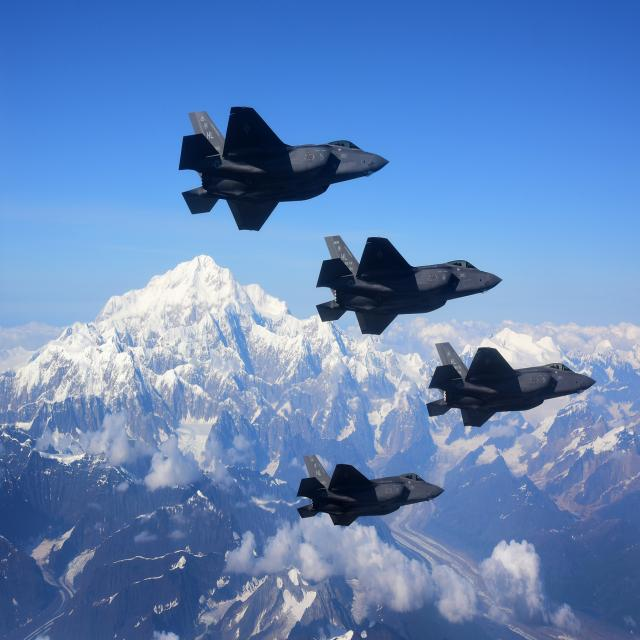MIL_Plane: (178, 106, 390, 232), (315, 235, 503, 336), (426, 342, 596, 428), (296, 454, 445, 527)
